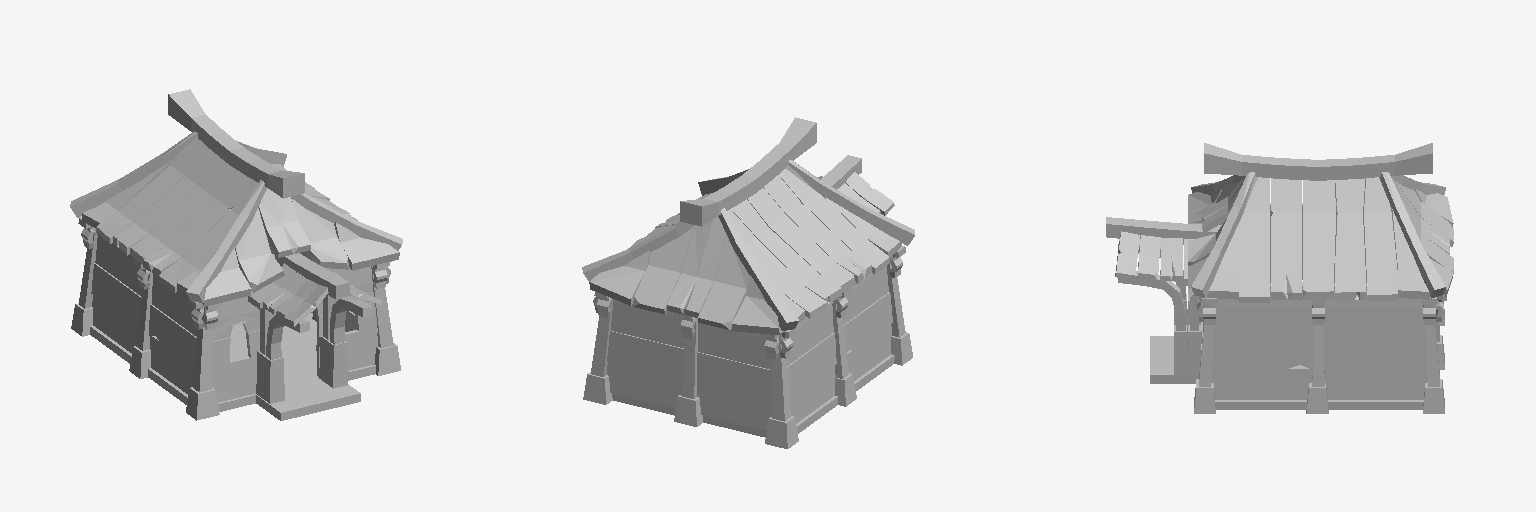
File: casa.obj
3 views of the same model, side by side, from view 1: azimuth 30°, elevation 25°; view 2: azimuth 150°, elevation 25°; view 3: azimuth 270°, elevation 25° (orthographic).
Visible parts, largest first — view 1: house; view 2: house; view 3: house.
Boxes of the visible parts, <box> form: house: <box>70,89,402,420</box>; house: <box>582,117,914,448</box>; house: <box>1106,143,1453,413</box>.
Bounding box in the file's own units: 5.43 × 5.16 × 7.52.